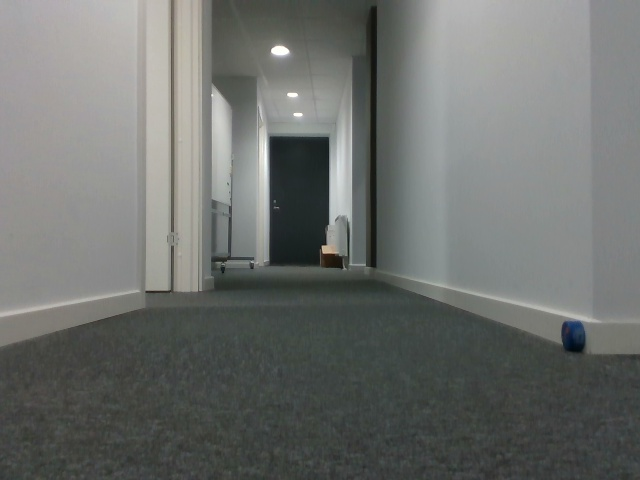alfa: (558, 318, 586, 355)
